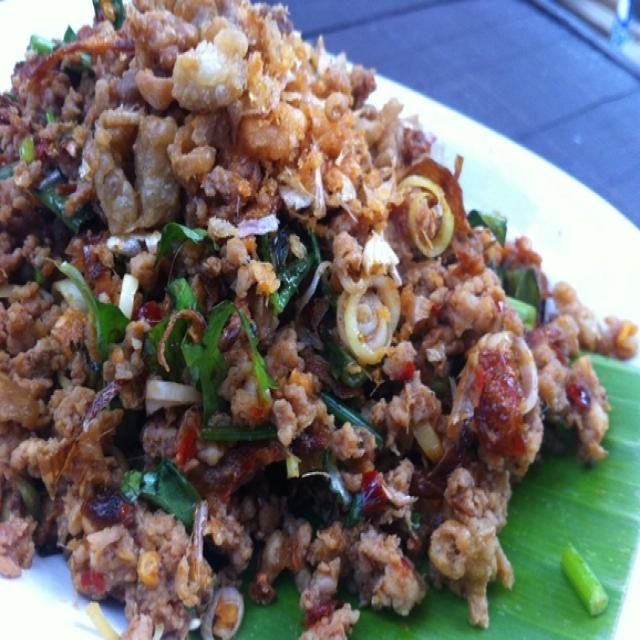鸡肉料理 含炸鸡: (16, 5, 614, 634)
